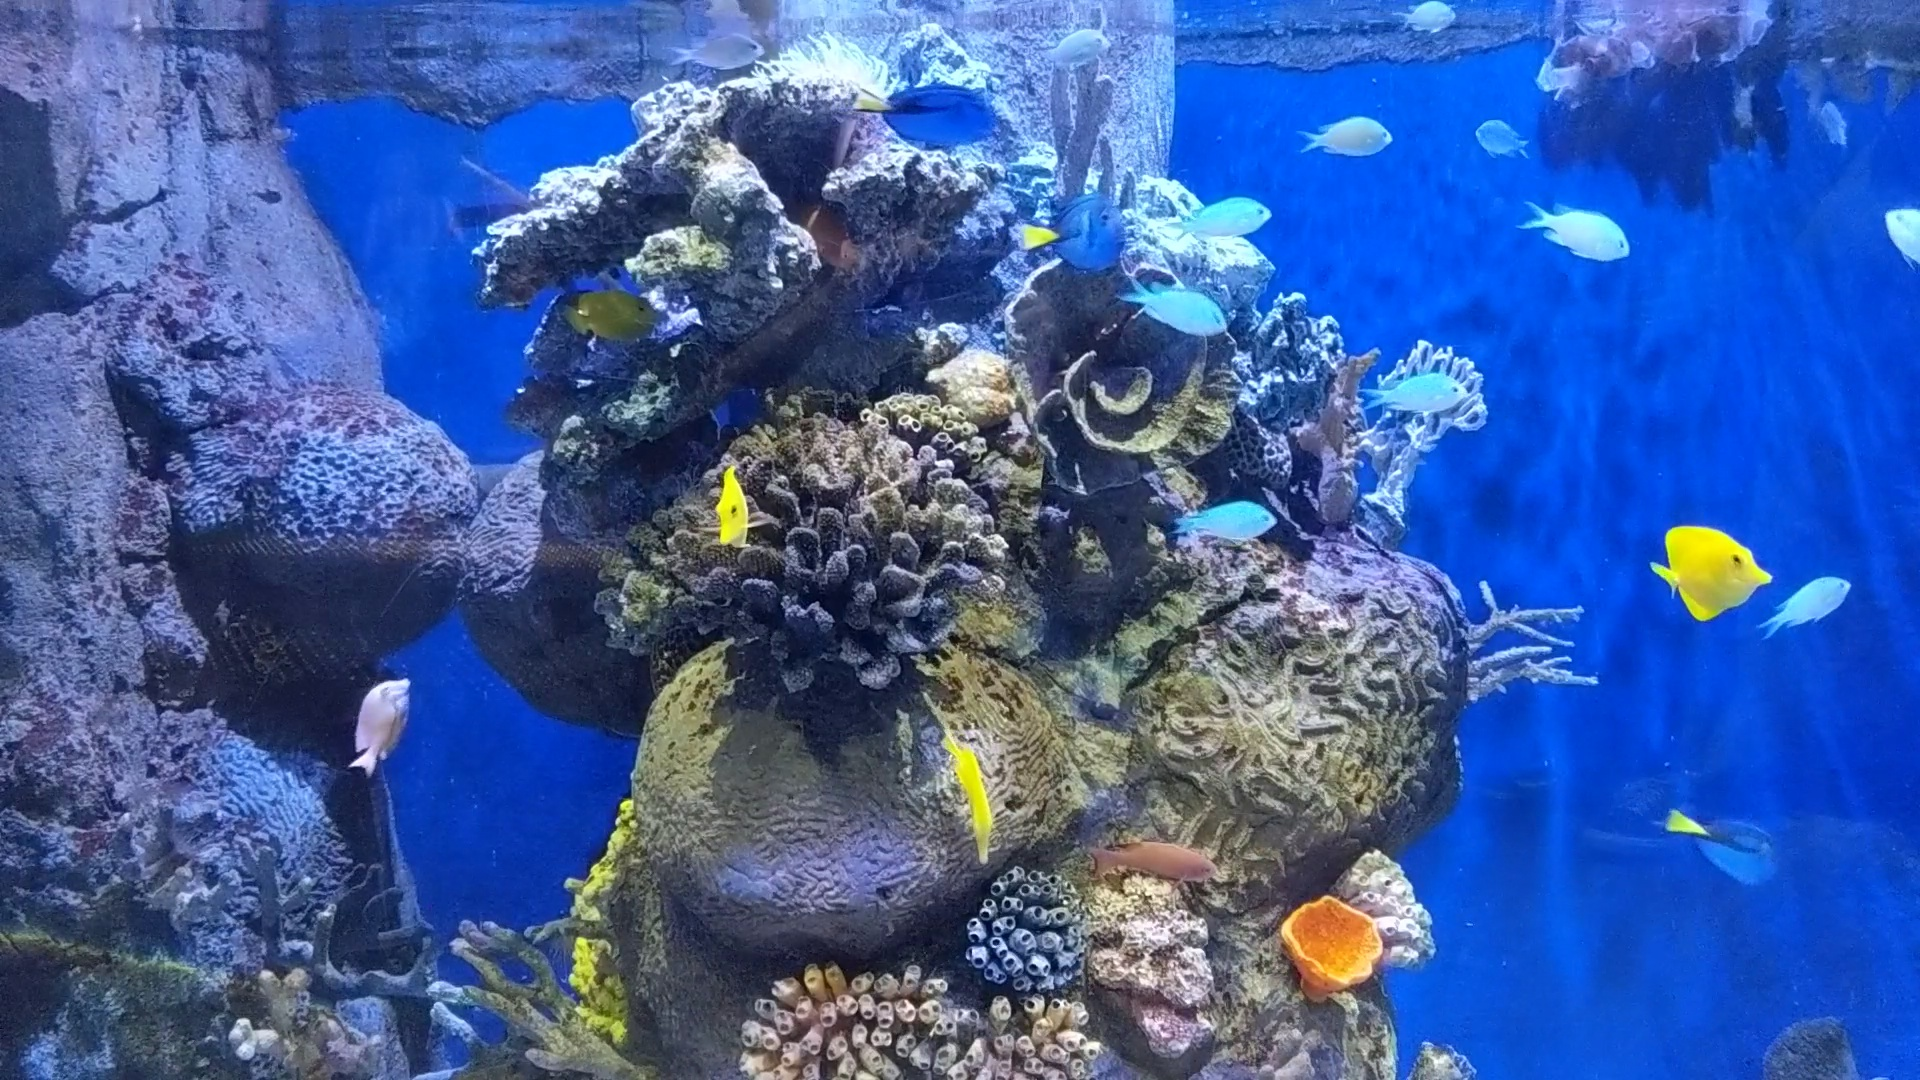blue tang surgeonfish: (847, 80, 1005, 153), (1662, 800, 1787, 886), (1011, 189, 1126, 272)
damselfish: (1514, 194, 1636, 265), (1121, 278, 1236, 339), (1760, 578, 1850, 637), (1298, 109, 1393, 164), (659, 30, 765, 74), (1174, 199, 1274, 243), (1361, 373, 1465, 413), (1174, 501, 1275, 537), (1040, 30, 1114, 73), (1879, 204, 1920, 269), (1470, 119, 1530, 162), (1390, 3, 1458, 38), (1818, 94, 1853, 156)
saddle butterfly fish: (1640, 520, 1779, 622), (926, 694, 1002, 862), (554, 284, 684, 348), (715, 448, 770, 558)
